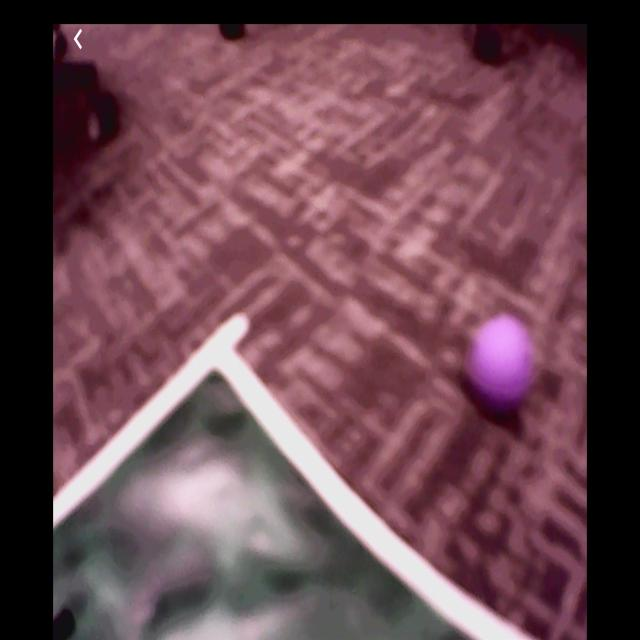ball: (464, 311, 537, 416)
